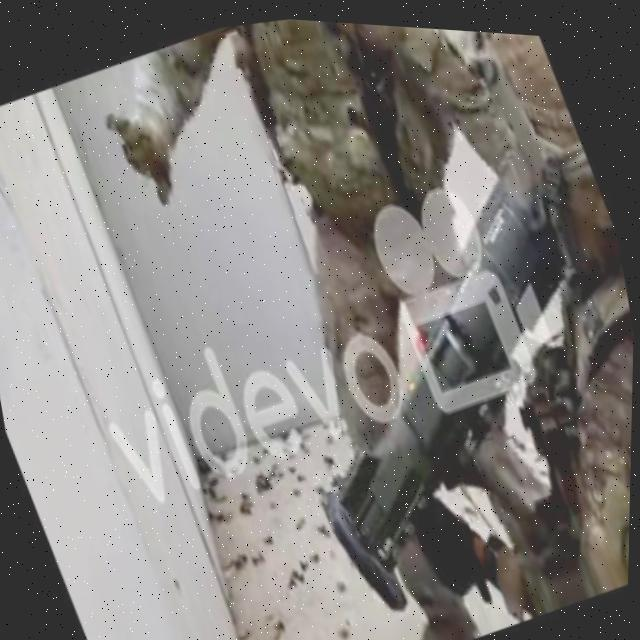rocket: (216, 130, 638, 640)
